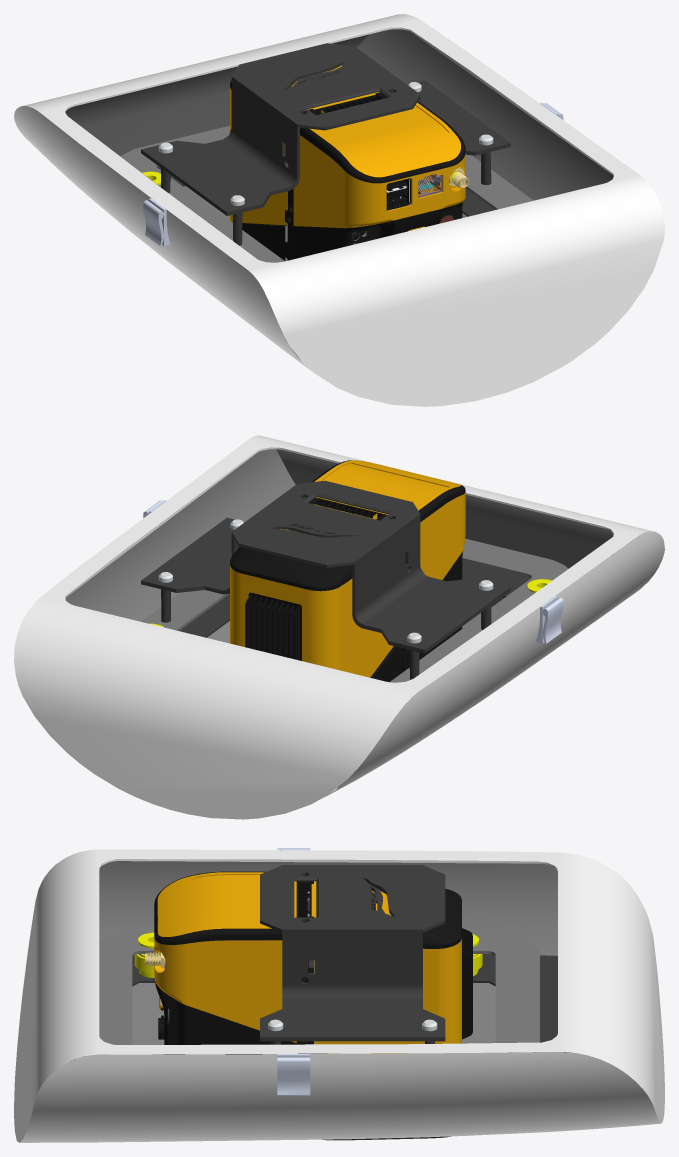
The model's file is YS_Mapper+OEM_web.glb.
3 renders of one model, top to bottom at view 1: azimuth 30°, elevation 25°; view 2: azimuth 150°, elevation 25°; view 3: azimuth 270°, elevation 25°, orthographic. The views are drawn at different scales.
Parts seen in each view (by area): view 1: Payload - Mapper+OEM-1, Mapper+ OEM.step-1; view 2: Payload - Mapper+OEM-1, Mapper+ OEM.step-1; view 3: Payload - Mapper+OEM-1, Mapper+ OEM.step-1.
Boxes of the visible parts, x1,y1,x2,y2 form: Payload - Mapper+OEM-1: (14,14,664,406); Mapper+ OEM.step-1: (230,65,468,261); Payload - Mapper+OEM-1: (14,435,664,819); Mapper+ OEM.step-1: (230,460,465,682); Payload - Mapper+OEM-1: (14,848,664,1142); Mapper+ OEM.step-1: (145,871,472,1054).
Bounding box in the file's own units: 0.2281 × 0.1076 × 0.2956.
